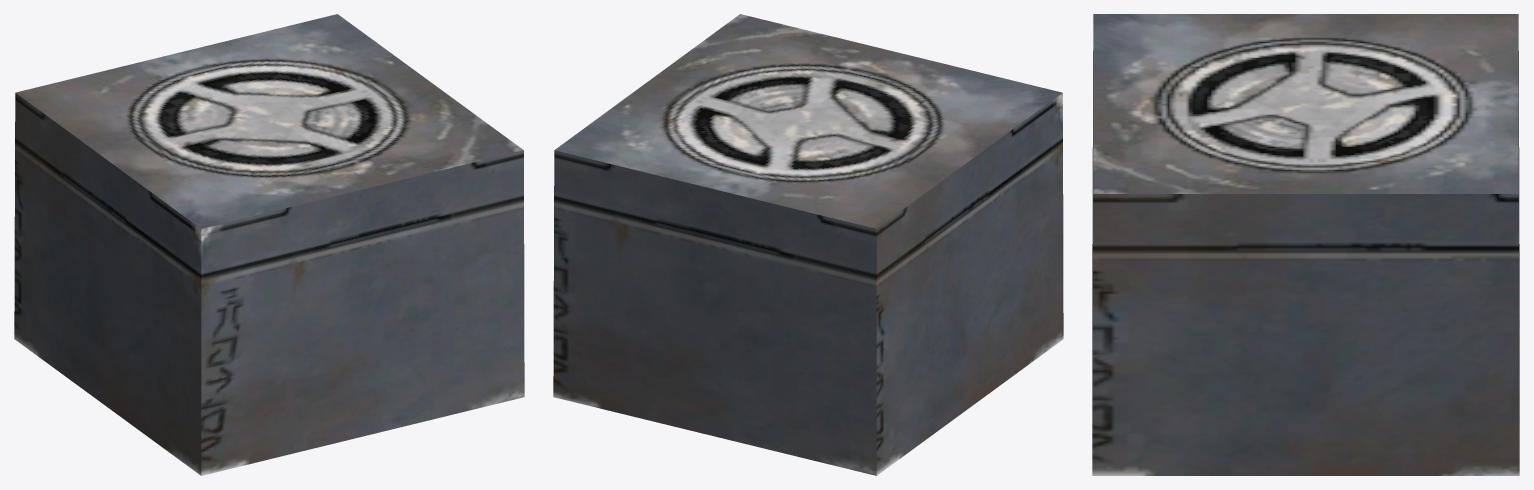
The model's file is con_gen_energy_solid_lg_l2.fbx.
The picture shows the model from 3 angles, left to right: view 1: azimuth 30°, elevation 25°; view 2: azimuth 150°, elevation 25°; view 3: azimuth 270°, elevation 25°; orthographic projection. The views are drawn at different scales.
Parts seen in each view (by area): view 1: mesh_node; view 2: mesh_node; view 3: mesh_node.
Boxes of the visible parts, box(x1,y1,x2,y2) form: mesh_node: box(14, 14, 524, 475); mesh_node: box(553, 14, 1063, 475); mesh_node: box(1092, 14, 1519, 475).
Bounding box in the file's own units: 0.9541 × 0.6958 × 0.956.
Materials: 1 (1 with a texture image).
